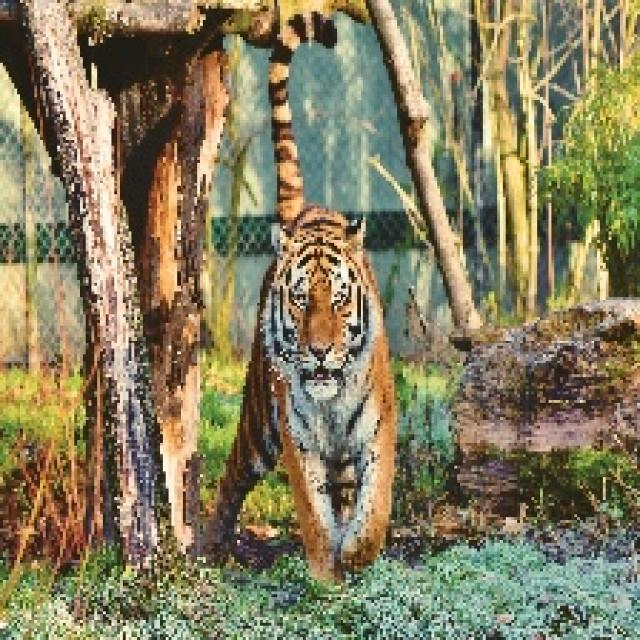bear: (168, 53, 499, 613)
